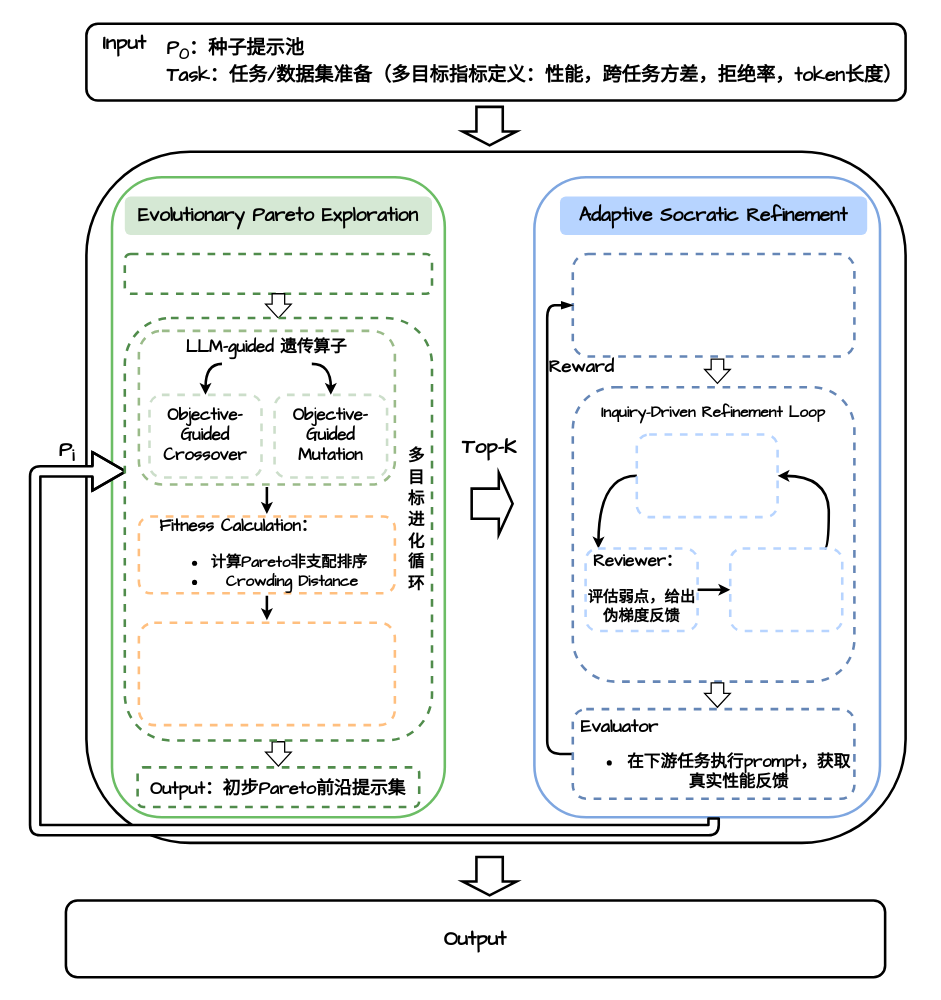
Image size: 941x1000. Some labels were removed from this diagram. The centre of each missing label's shape, as x and y in pixels:
Decomposer 任务自适应规划优化轨迹，分解任务为sub-steps: point (713, 304)
Population Init: point (278, 273)
Questioner： 提出启发式问题: point (706, 475)
Rewriter： 基于对话生成改进prompt: point (785, 589)
精英保留和多样性维护 保留Pareto前沿个体 随机替换部分前沿个体以增加多样性: point (266, 673)
